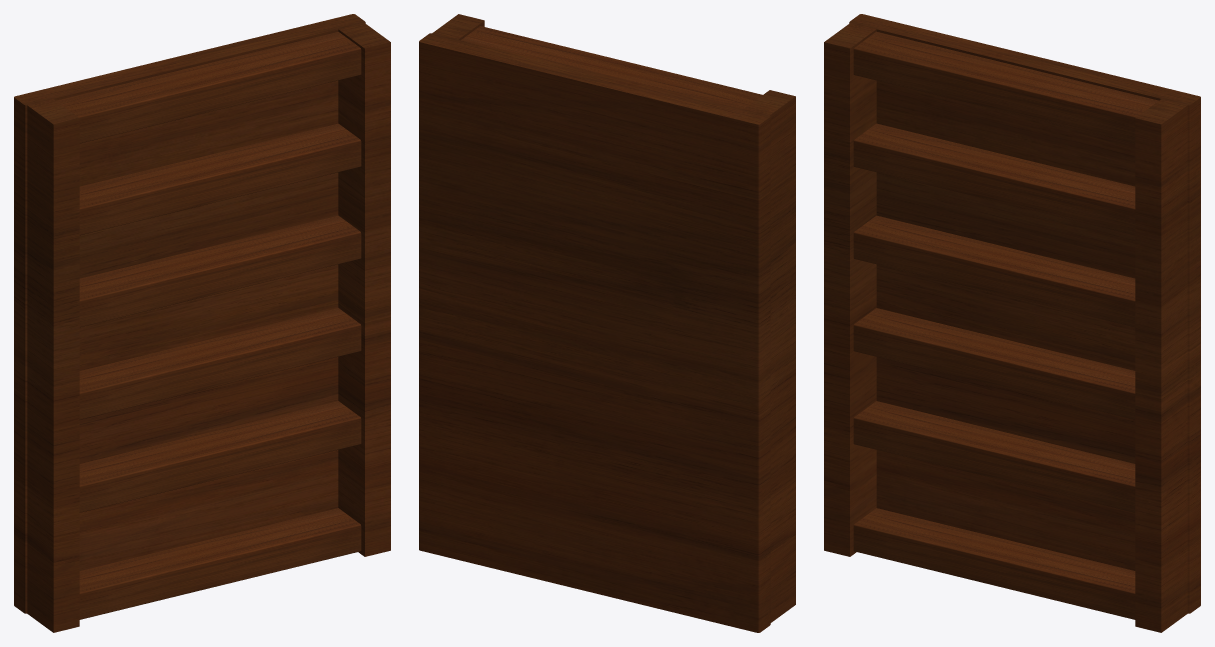
Rendered from Bookshelf.fbx.
The picture shows the model from 3 angles, left to right: view 1: azimuth 30°, elevation 25°; view 2: azimuth 150°, elevation 25°; view 3: azimuth 330°, elevation 25°; orthographic projection.
Parts seen in each view (by area): view 1: pCube8, polySurface2, polySurface7, polySurface8, polySurface6, polySurface3, polySurface4; view 2: pCube8, polySurface2; view 3: pCube8, polySurface2, polySurface7, polySurface8, polySurface6, polySurface3, polySurface4.
Boxes of the visible parts, left/top/right/bottom form: pCube8: left=14, top=14, right=390, bottom=632; polySurface2: left=56, top=31, right=361, bottom=143; polySurface7: left=79, top=308, right=361, bottom=419; polySurface8: left=79, top=401, right=361, bottom=512; polySurface6: left=79, top=215, right=361, bottom=327; polySurface3: left=79, top=508, right=361, bottom=619; polySurface4: left=79, top=123, right=361, bottom=235; pCube8: left=419, top=14, right=795, bottom=632; polySurface2: left=461, top=26, right=762, bottom=109; pCube8: left=824, top=14, right=1200, bottom=632; polySurface2: left=853, top=31, right=1158, bottom=143; polySurface7: left=853, top=308, right=1135, bottom=419; polySurface8: left=853, top=401, right=1135, bottom=512; polySurface6: left=853, top=215, right=1135, bottom=327; polySurface3: left=853, top=508, right=1135, bottom=619; polySurface4: left=853, top=123, right=1135, bottom=235.
Size of the model in its own units: 162 by 231 by 31.66.
Materials: 1 (1 with a texture image).
